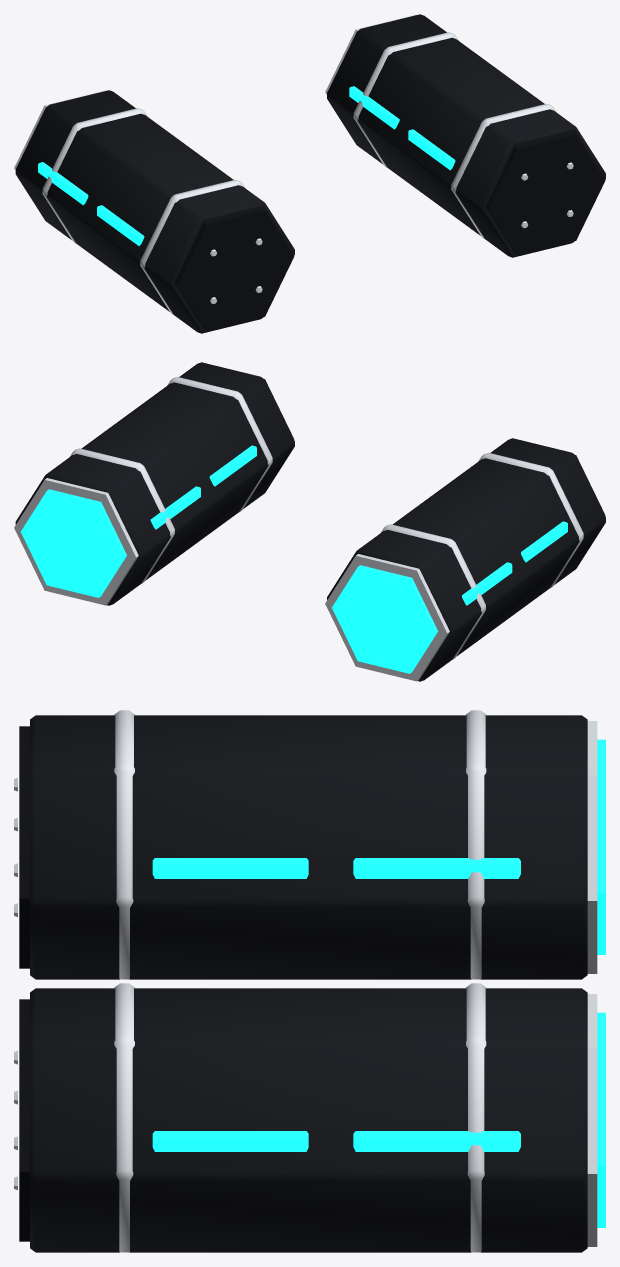
The model's file is deck_pods_round.glb.
3 views of the same model, one above another, from view 1: azimuth 30°, elevation 25°; view 2: azimuth 150°, elevation 25°; view 3: azimuth 270°, elevation 25° (orthographic). The views are drawn at different scales.
Visible parts, largest first — view 1: deck_pods_round_POD0, deck_pods_round_POD1; view 2: deck_pods_round_POD1, deck_pods_round_POD0; view 3: deck_pods_round_POD0, deck_pods_round_POD1.
Boxes of the visible parts, box(x1,y1,x2,y2) form: deck_pods_round_POD0: box(14, 90, 294, 333); deck_pods_round_POD1: box(325, 14, 605, 257); deck_pods_round_POD1: box(14, 362, 294, 605); deck_pods_round_POD0: box(325, 438, 605, 681); deck_pods_round_POD0: box(14, 710, 605, 979); deck_pods_round_POD1: box(14, 983, 605, 1252).
Bounding box in the file's own units: 1.56 × 0.407 × 1.01.
